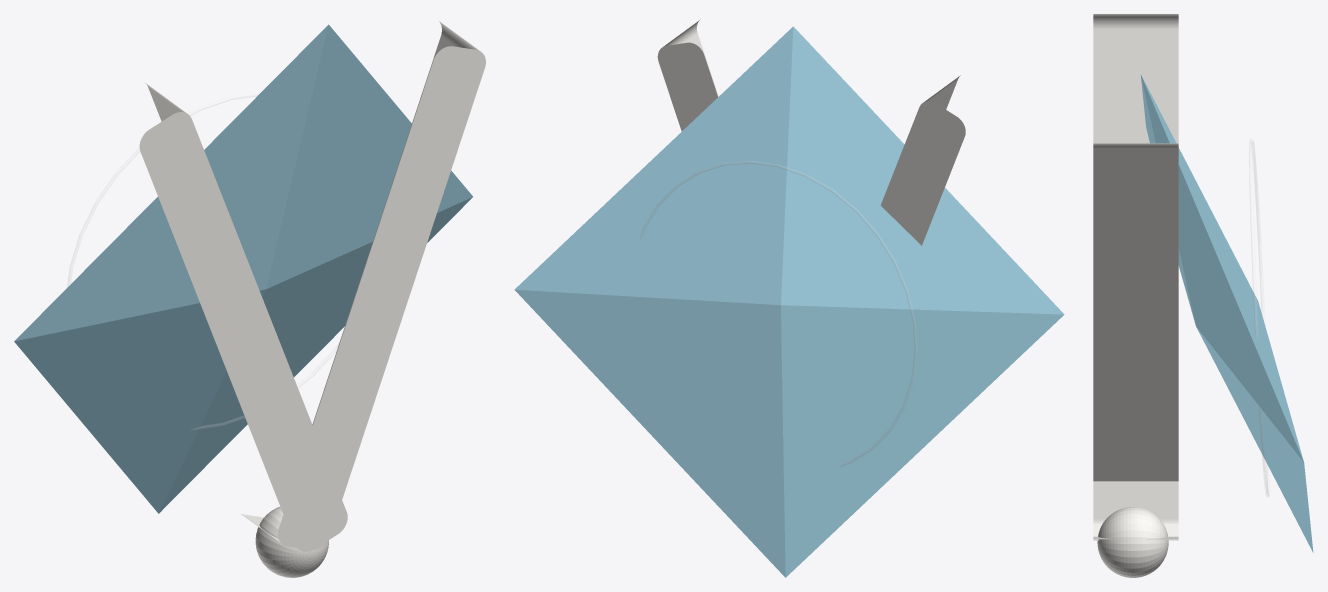
File: viraj-v.glb
3 views of the same model, side by side, from view 1: azimuth 30°, elevation 25°; view 2: azimuth 150°, elevation 25°; view 3: azimuth 270°, elevation 25° (orthographic). The views are drawn at different scales.
Parts seen in each view (by area): view 1: glass_shard, left_bar, right_bar, joint, ring; view 2: glass_shard, left_bar, right_bar, ring; view 3: right_bar, glass_shard, left_bar, joint, ring.
Boxes of the visible parts, x1=… form: glass_shard: x1=14, y1=24, x2=472, y2=513; left_bar: x1=139, y1=83, x2=347, y2=551; right_bar: x1=240, y1=21, x2=485, y2=550; joint: x1=255, y1=506, x2=328, y2=577; ring: x1=68, y1=93, x2=337, y2=430; glass_shard: x1=514, y1=26, x2=1064, y2=577; left_bar: x1=880, y1=75, x2=965, y2=245; right_bar: x1=657, y1=19, x2=718, y2=131; ring: x1=640, y1=161, x2=917, y2=465; right_bar: x1=1093, y1=143, x2=1178, y2=540; glass_shard: x1=1140, y1=74, x2=1313, y2=552; left_bar: x1=1093, y1=14, x2=1178, y2=539; joint: x1=1097, y1=507, x2=1168, y2=577; ring: x1=1249, y1=139, x2=1269, y2=496.
Bounding box in the file's own units: 6.08 × 5.8 × 2.22.
